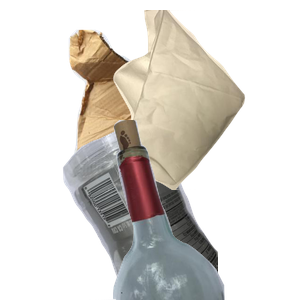cardboard: (66, 27, 242, 197)
glass: (89, 120, 300, 300)
plastic: (60, 120, 300, 300)
trash: (111, 10, 300, 190)
